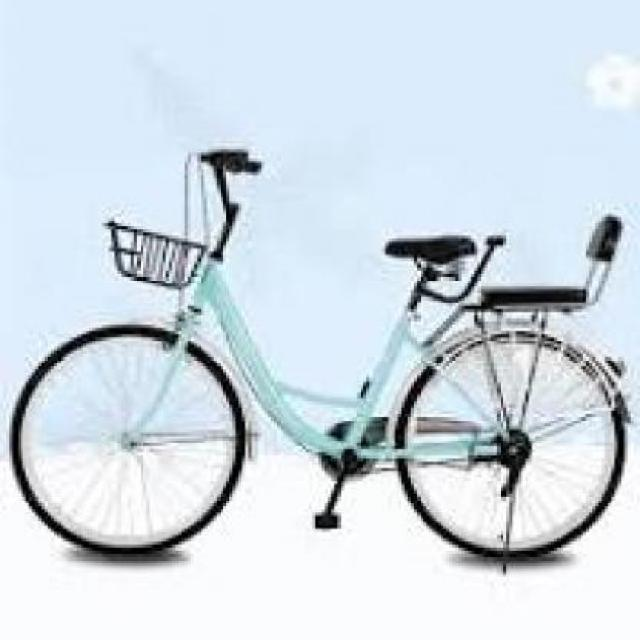bicycle: (12, 146, 640, 577)
